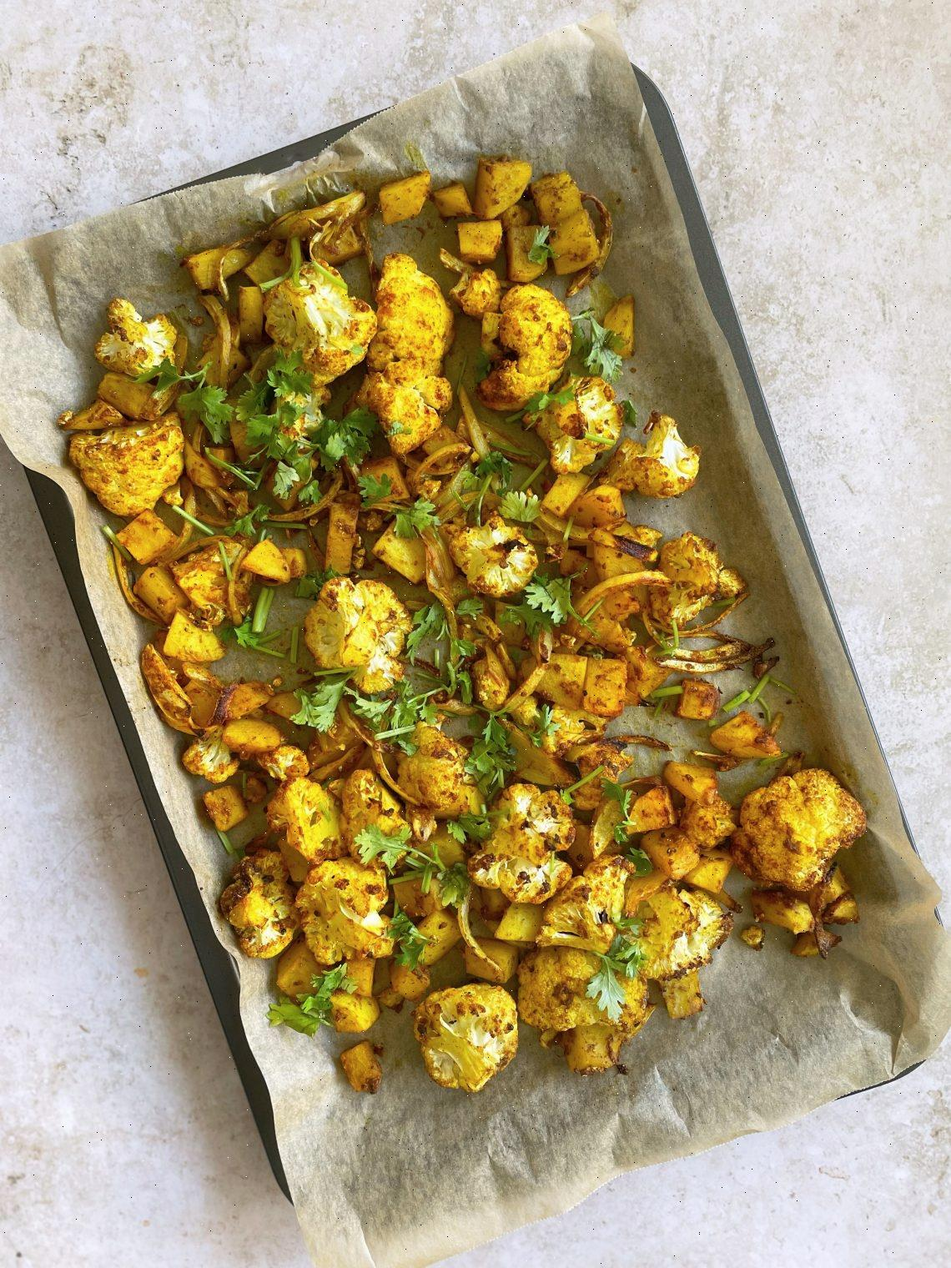aloo gobhi: (56, 160, 857, 1204)
